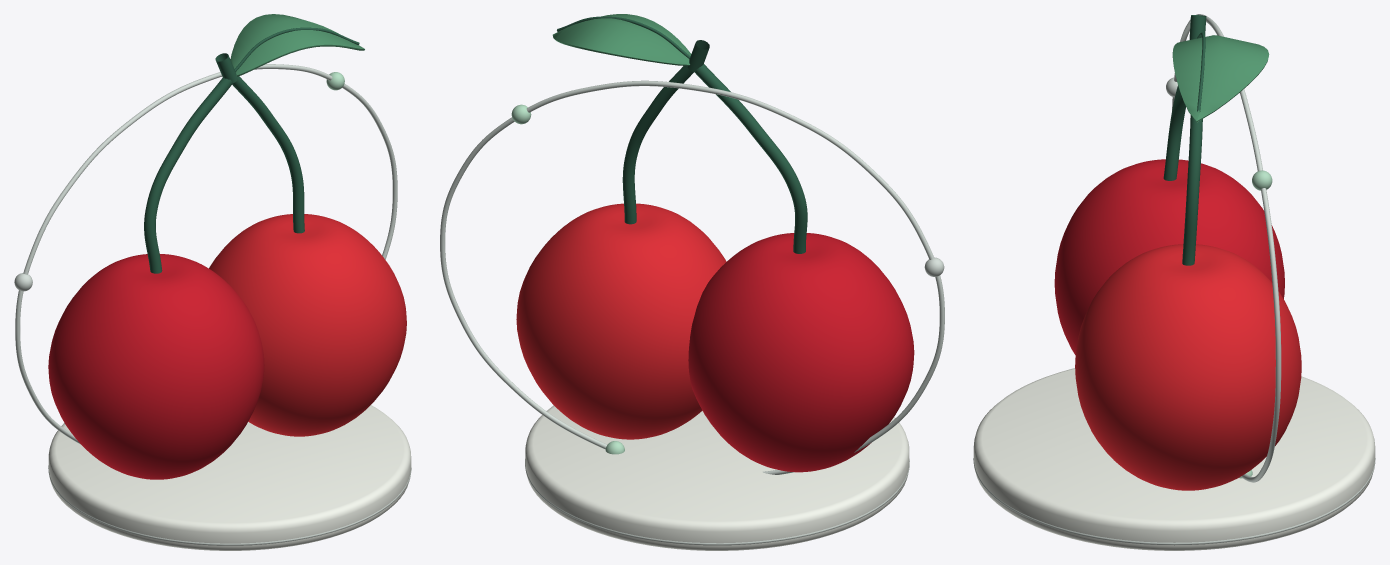
Rendered from aengdo-studio.glb.
3 renders of one model, left to right at view 1: azimuth 30°, elevation 25°; view 2: azimuth 150°, elevation 25°; view 3: azimuth 270°, elevation 25°, orthographic. The views are drawn at different scales.
Parts seen in each view (by area): view 1: Cherry / left, Porcelain display plinth, Cherry / right, Neural orbit / silver ellipse, Leaf / floating jade blade, Stem / left, Stem / right, Satin chrome plinth trim; view 2: Cherry / left, Cherry / right, Porcelain display plinth, Neural orbit / silver ellipse, Leaf / floating jade blade, Stem / left, Stem / right, Satin chrome plinth trim; view 3: Cherry / right, Porcelain display plinth, Cherry / left, Leaf / floating jade blade, Neural orbit / silver ellipse, Stem / right, Satin chrome plinth trim, Stem / left.
Boxes of the visible parts, x1=… form: Cherry / left: x1=48, y1=254, x2=264, y2=479; Porcelain display plinth: x1=48, y1=405, x2=411, y2=550; Cherry / right: x1=209, y1=214, x2=406, y2=436; Neural orbit / silver ellipse: x1=15, y1=64, x2=397, y2=444; Leaf / floating jade blade: x1=230, y1=14, x2=364, y2=76; Stem / left: x1=144, y1=77, x2=232, y2=273; Stem / right: x1=232, y1=74, x2=304, y2=233; Satin chrome plinth trim: x1=48, y1=465, x2=411, y2=545; Cherry / left: x1=688, y1=233, x2=914, y2=472; Cherry / right: x1=516, y1=203, x2=726, y2=439; Porcelain display plinth: x1=525, y1=405, x2=909, y2=550; Neural orbit / silver ellipse: x1=440, y1=80, x2=944, y2=474; Leaf / floating jade blade: x1=552, y1=14, x2=691, y2=65; Stem / left: x1=695, y1=64, x2=807, y2=253; Stem / right: x1=622, y1=66, x2=693, y2=224; Satin chrome plinth trim: x1=525, y1=459, x2=909, y2=545; Cherry / right: x1=1075, y1=244, x2=1301, y2=490; Porcelain display plinth: x1=973, y1=368, x2=1375, y2=550; Cherry / left: x1=1054, y1=159, x2=1284, y2=354; Leaf / floating jade blade: x1=1172, y1=35, x2=1269, y2=122; Neural orbit / silver ellipse: x1=1172, y1=14, x2=1281, y2=482; Stem / right: x1=1182, y1=115, x2=1202, y2=265; Satin chrome plinth trim: x1=973, y1=458, x2=1375, y2=545; Stem / left: x1=1163, y1=85, x2=1185, y2=180.
Bounding box in the file's own units: 2.95 × 2.77 × 2.16.
